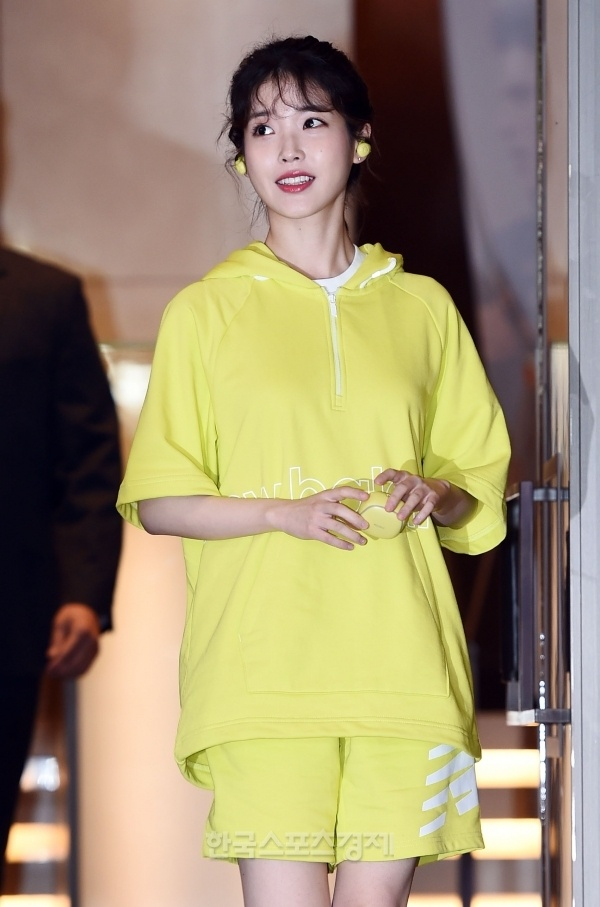earphone: (352, 122, 372, 164)
